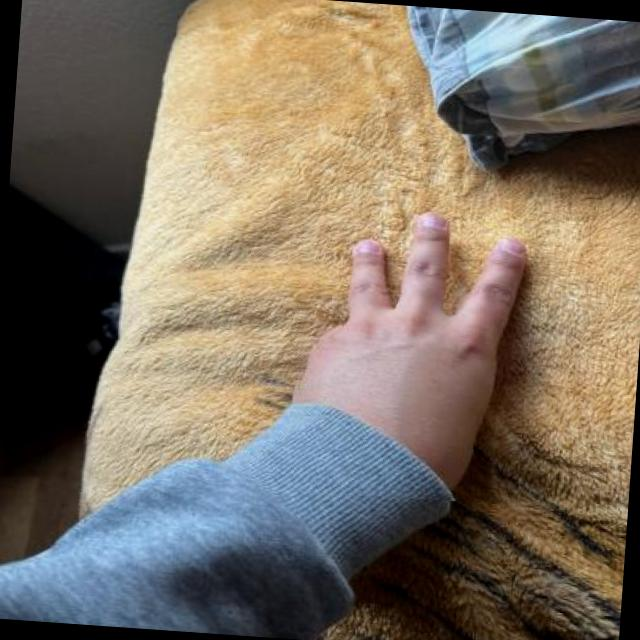W: (286, 184, 538, 506)
